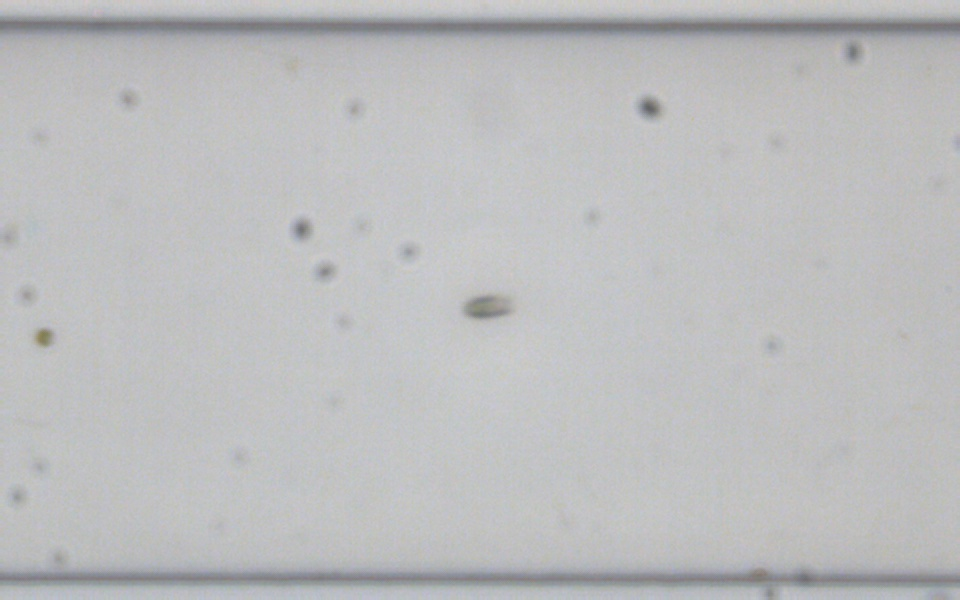Chlorella: (33, 325, 54, 346)
Dunaliella salina: (462, 292, 515, 318)
